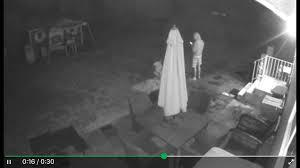person: (187, 24, 210, 85)
